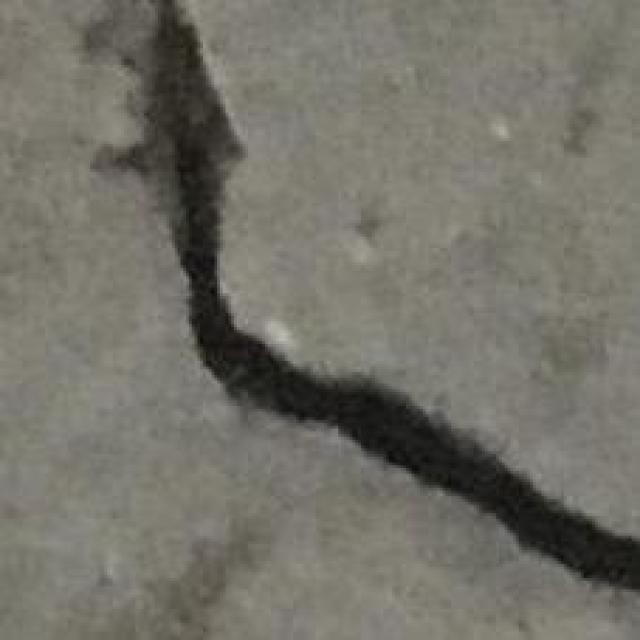Diagonal: (246, 338, 640, 589)
Longitudinal: (121, 0, 243, 414)
